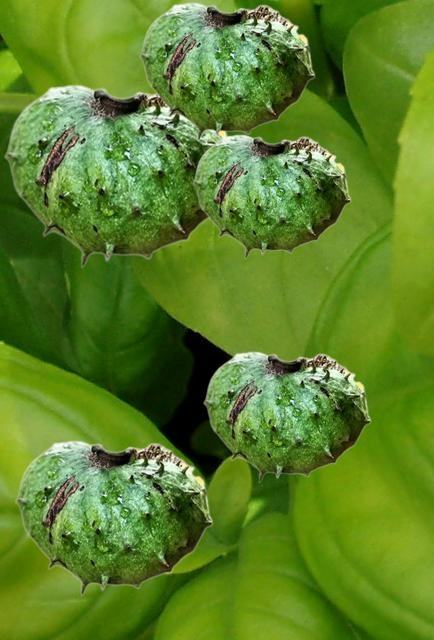guyabano: (4, 84, 228, 267), (15, 440, 212, 595), (139, 2, 314, 140), (203, 351, 370, 482), (192, 134, 350, 258)
